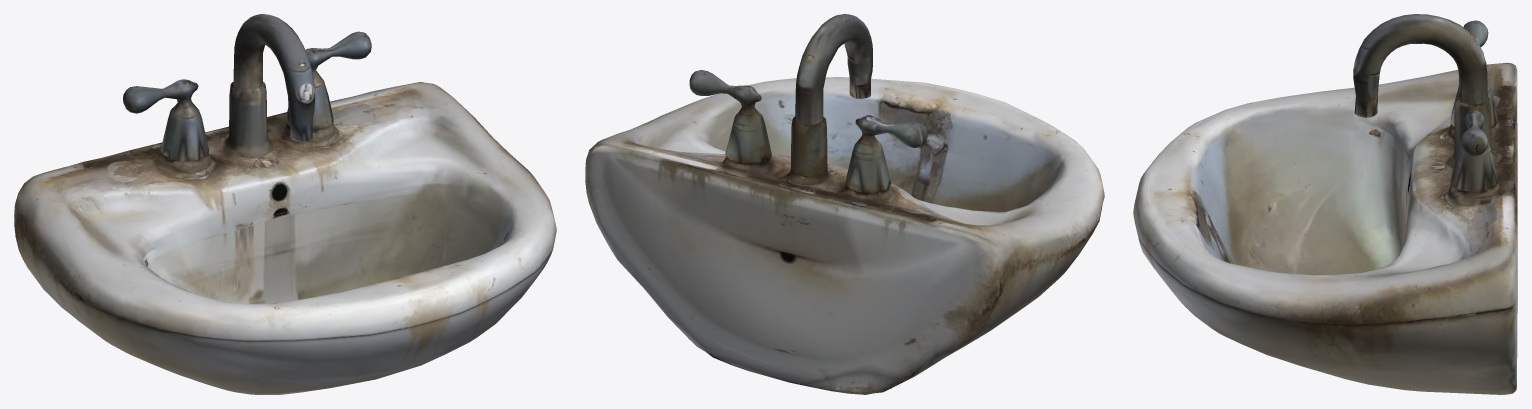
Rendered from dirtysink.glb.
3 renders of one model, left to right at view 1: azimuth 30°, elevation 25°; view 2: azimuth 150°, elevation 25°; view 3: azimuth 270°, elevation 25°, orthographic. The views are drawn at different scales.
Parts seen in each view (by area): view 1: Mesh_0; view 2: Mesh_0; view 3: Mesh_0.
Part boxes in pixels (<box>): Mesh_0: <box>14,14,556,394</box>; Mesh_0: <box>585,14,1104,394</box>; Mesh_0: <box>1133,14,1517,394</box>.
Bounding box in the file's own units: 0.4839 × 0.3498 × 0.3544.
1 material, 1 textured.
